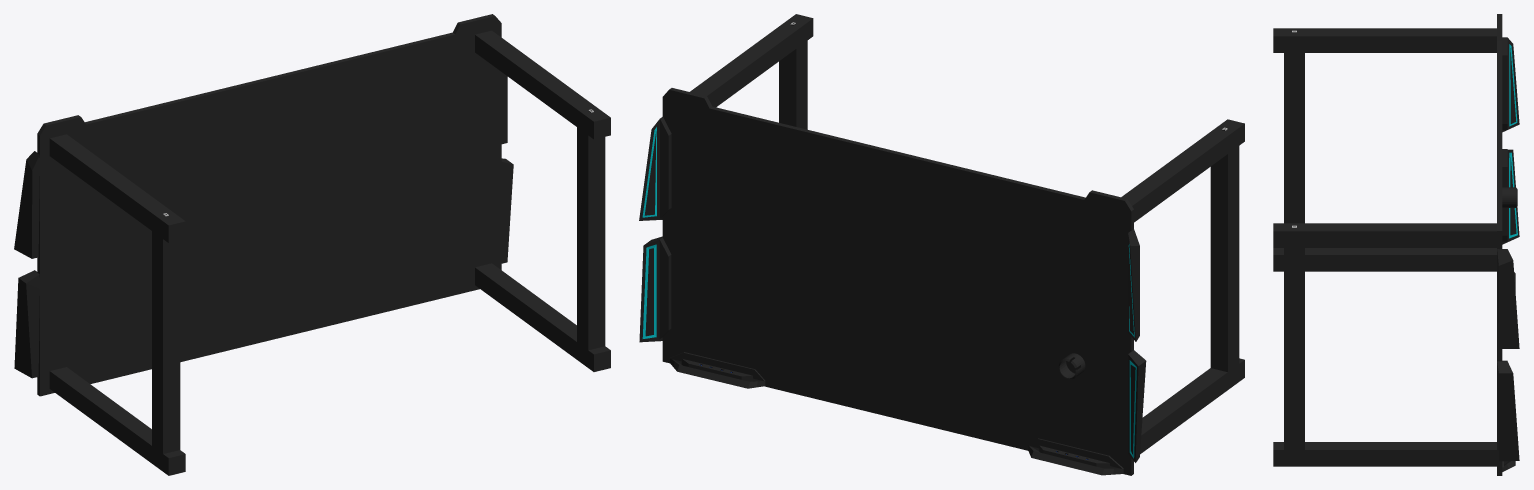
The model's file is TableSultan.fbx.
The picture shows the model from 3 angles, left to right: view 1: azimuth 30°, elevation 25°; view 2: azimuth 150°, elevation 25°; view 3: azimuth 270°, elevation 25°; orthographic projection. The views are drawn at different scales.
Parts seen in each view (by area): view 1: mesh; view 2: mesh; view 3: mesh.
Part boxes in pixels (bbox=[...]): mesh: bbox=[14, 14, 610, 475]; mesh: bbox=[639, 14, 1244, 475]; mesh: bbox=[1273, 14, 1519, 475].
Size of the model in its own units: 41513 by 21828 by 19239.
